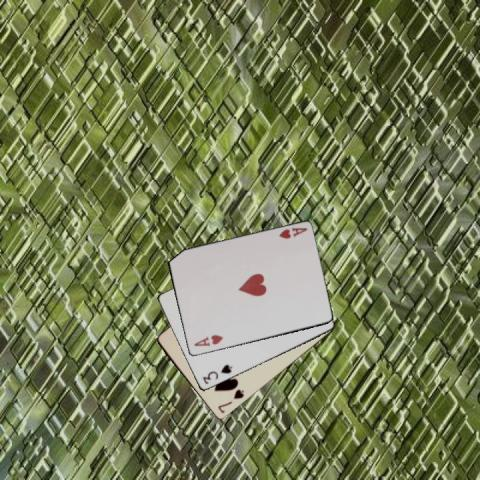3s: (200, 362, 233, 386)
7s: (216, 386, 246, 414)
Ah: (276, 224, 309, 241), (191, 332, 224, 348)
